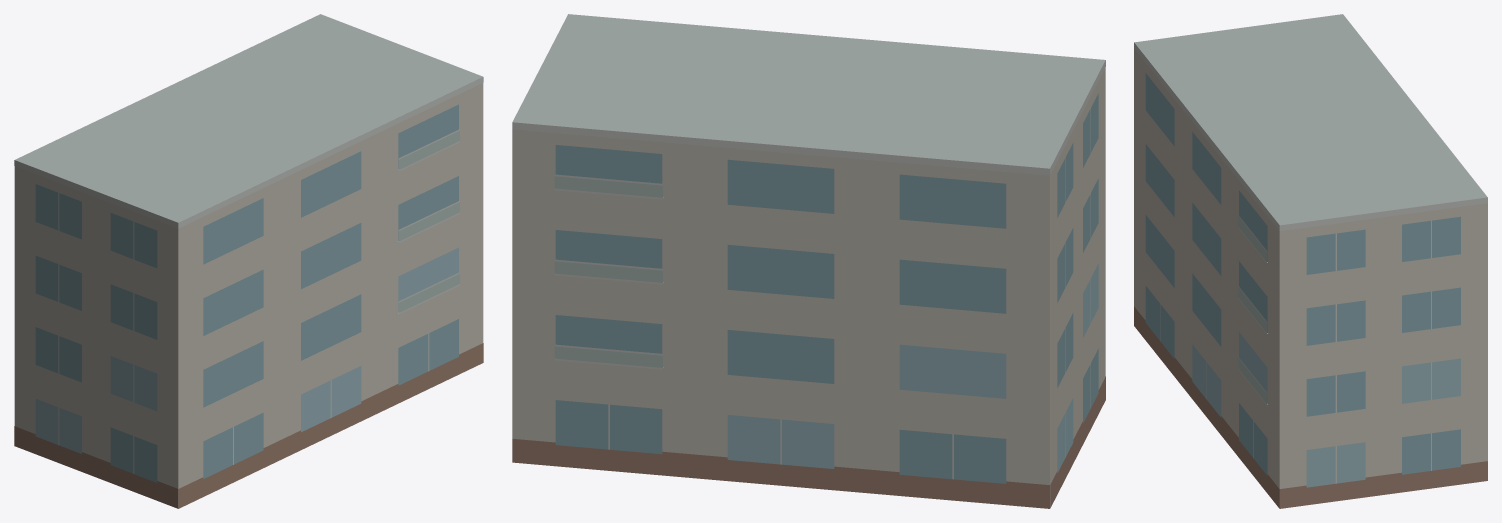
The model's file is survey-upis-32832352.glb.
3 renders of one model, left to right at view 1: azimuth 30°, elevation 25°; view 2: azimuth 150°, elevation 25°; view 3: azimuth 270°, elevation 25°, orthographic. The views are drawn at different scales.
Parts seen in each view (by area): view 1: survey-upis-32832352.tmp; view 2: survey-upis-32832352.tmp; view 3: survey-upis-32832352.tmp.
Part boxes in pixels (x1,y1,x2,y2): survey-upis-32832352.tmp: (14,14,483,508); survey-upis-32832352.tmp: (512,14,1105,508); survey-upis-32832352.tmp: (1134,14,1487,508).
Bounding box in the file's own units: 19.04 × 11.9 × 13.47.
